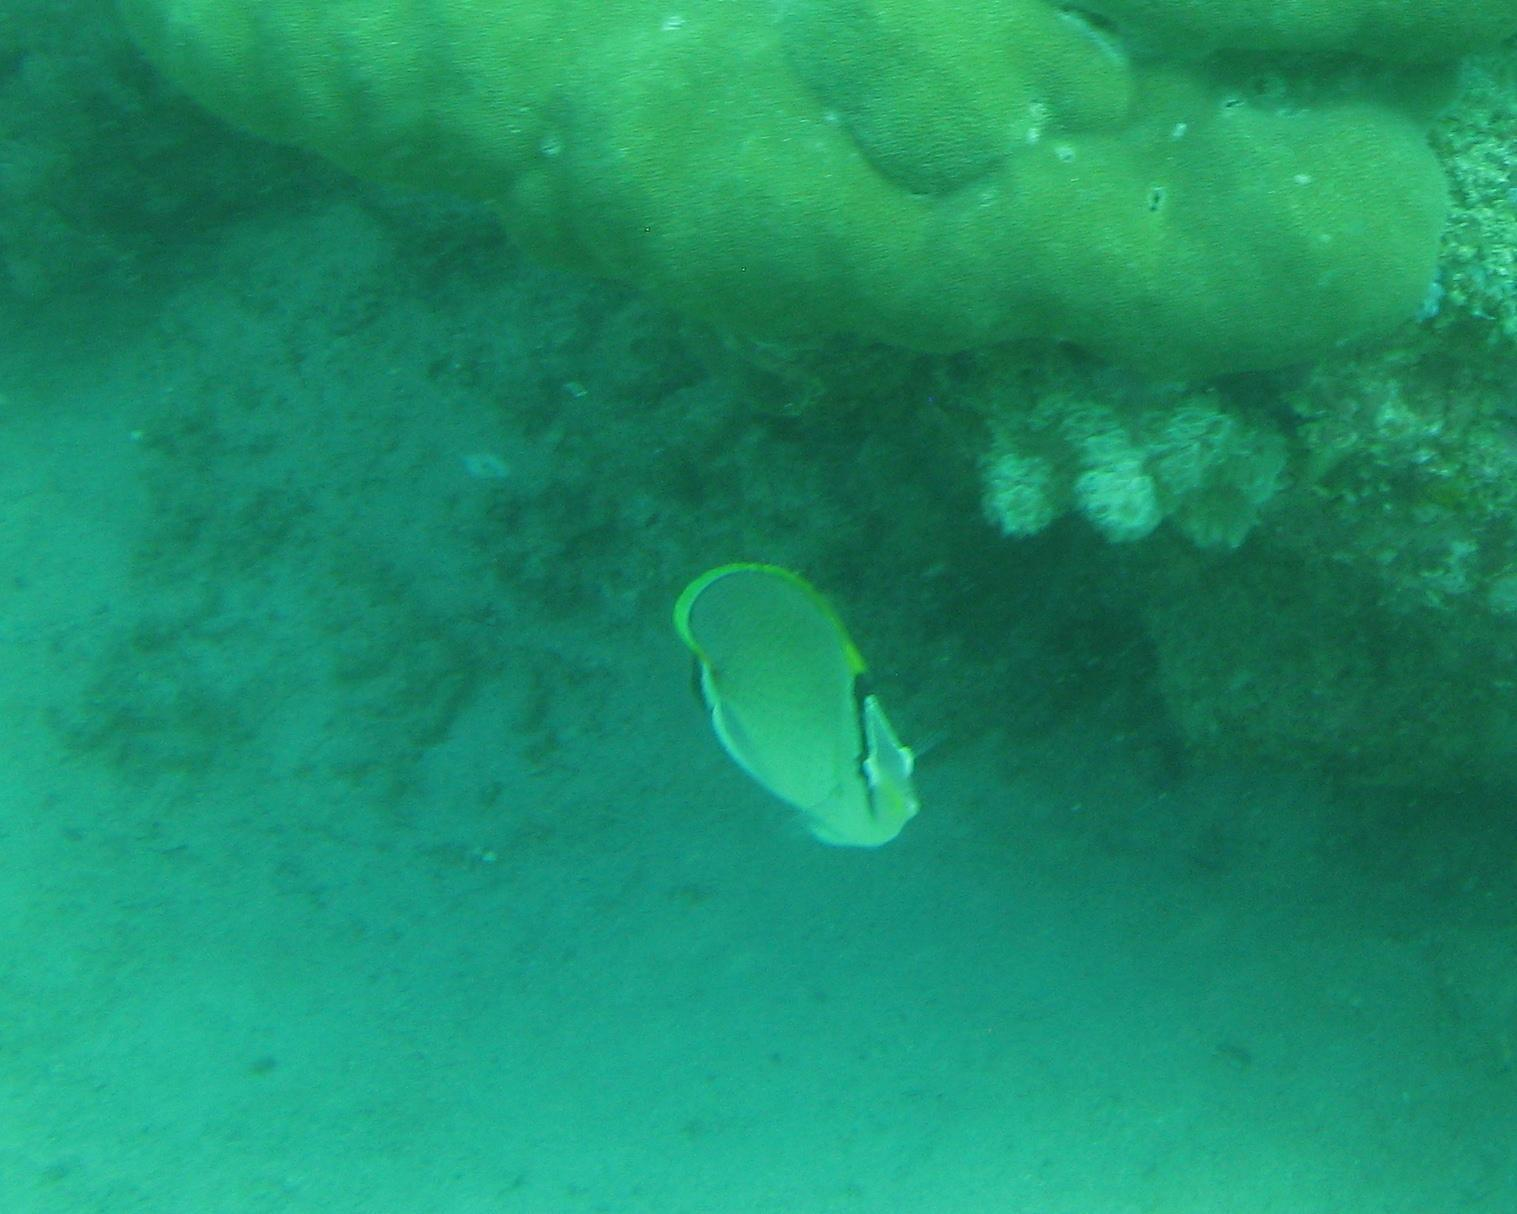Fish: (670, 548, 946, 866)
